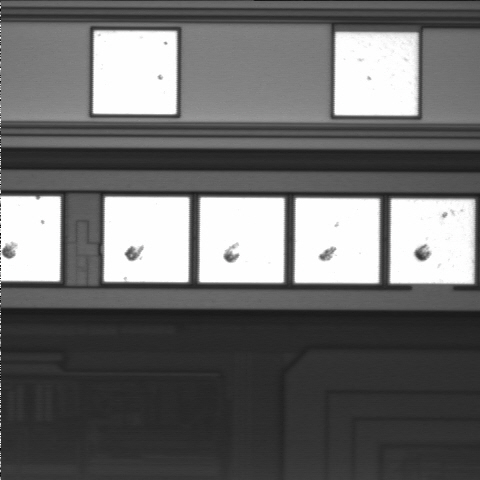pad: (104, 197, 189, 282), (199, 198, 284, 283), (295, 198, 379, 283), (390, 199, 474, 284), (93, 31, 177, 114), (335, 32, 418, 115)
